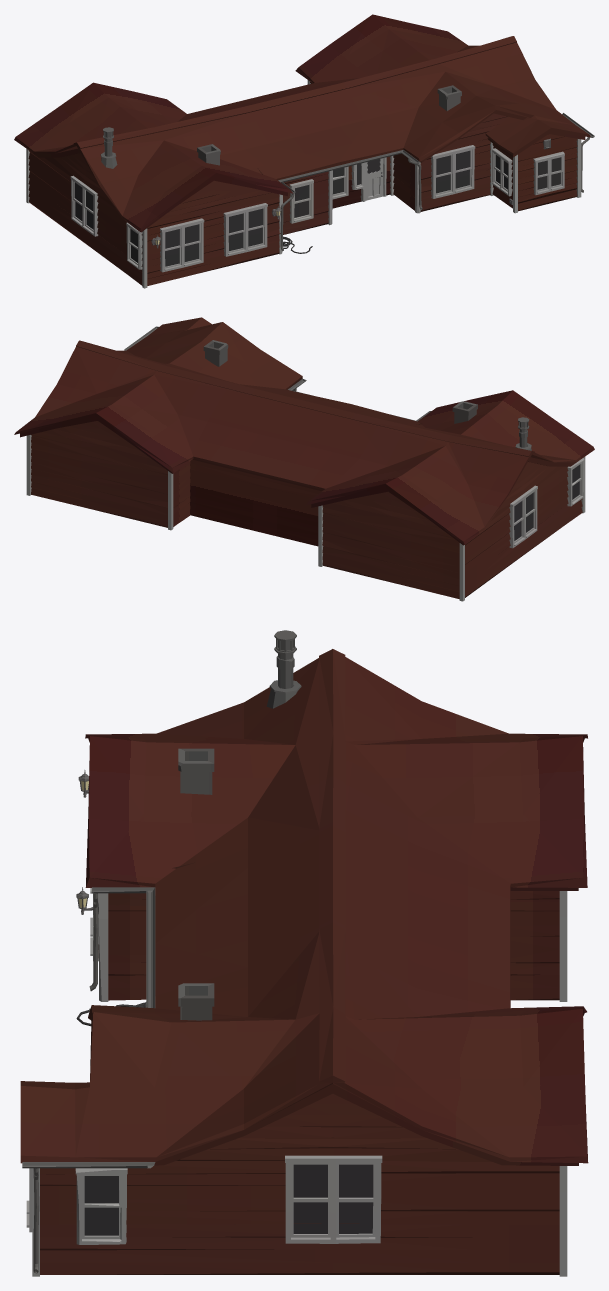
Rendered from House02.fbx.
3 views of the same model, one above another, from view 1: azimuth 30°, elevation 25°; view 2: azimuth 150°, elevation 25°; view 3: azimuth 270°, elevation 25° (orthographic). The views are drawn at different scales.
Visible parts, largest first — view 1: SM_House_04.mo; view 2: SM_House_04.mo; view 3: SM_House_04.mo.
Part boxes in pixels (left/top/right/bottom): SM_House_04.mo: left=14, top=14, right=594, bottom=288; SM_House_04.mo: left=14, top=317, right=594, bottom=601; SM_House_04.mo: left=20, top=630, right=588, bottom=1276.
Bounding box in the file's own units: 2076 × 549 × 1158.
